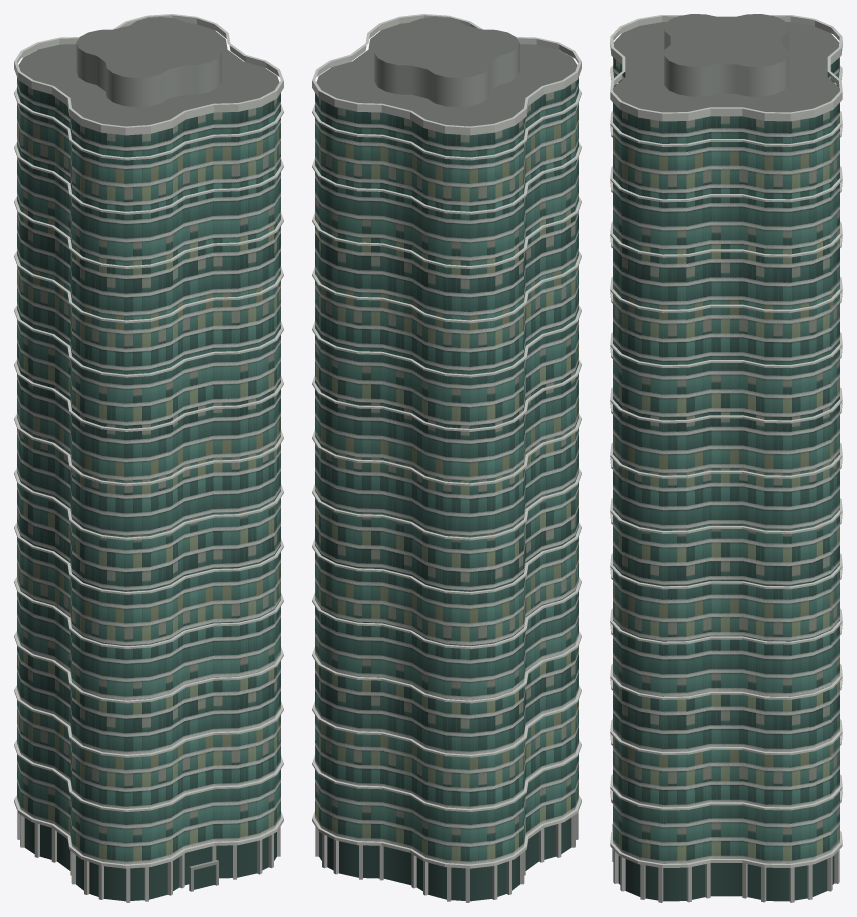
File: infinity_towers.glb
The picture shows the model from 3 angles, left to right: view 1: azimuth 30°, elevation 25°; view 2: azimuth 150°, elevation 25°; view 3: azimuth 270°, elevation 25°; orthographic projection.
Parts seen in each view (by area): view 1: infinity_towers; view 2: infinity_towers; view 3: infinity_towers.
Boxes of the visible parts, box(x1,y1,x2,y2) form: infinity_towers: box(14, 14, 283, 902); infinity_towers: box(312, 14, 581, 902); infinity_towers: box(610, 14, 842, 902).
Bounding box in the file's own units: 35.66 × 137 × 35.46.
Materials: 2 (2 with a texture image).
